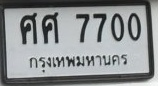txt33: (18, 12, 38, 45), (40, 12, 60, 45)
